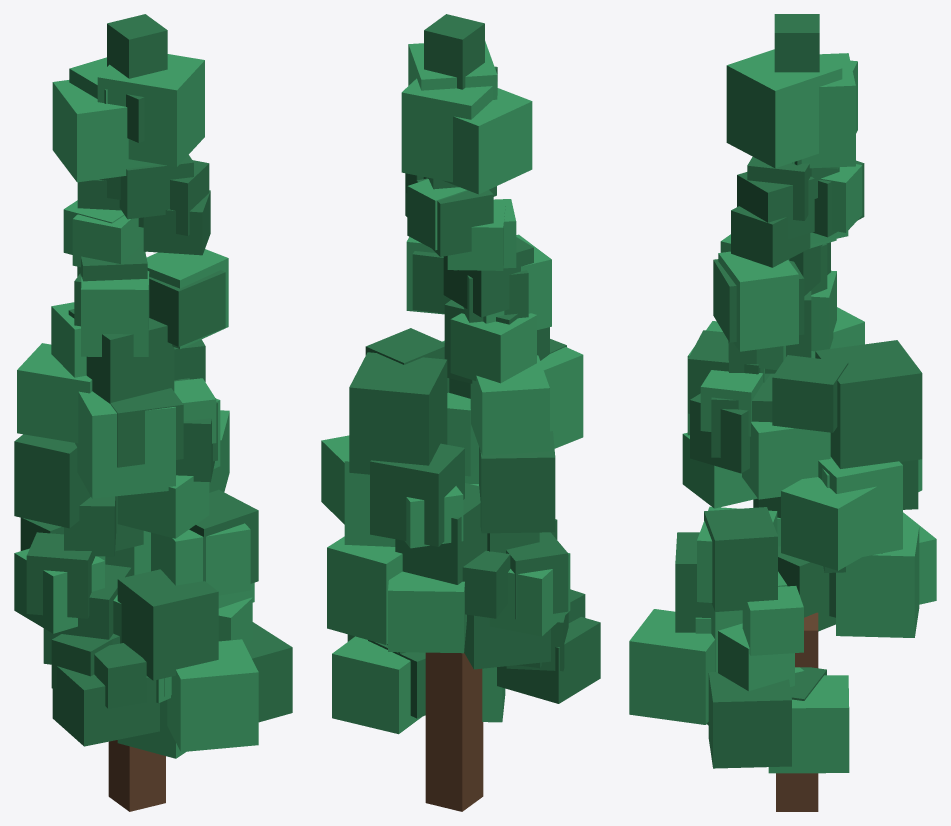
The model's file is treePine.glb.
3 renders of one model, left to right at view 1: azimuth 30°, elevation 25°; view 2: azimuth 150°, elevation 25°; view 3: azimuth 270°, elevation 25°, orthographic.
Visible parts, largest first — view 1: treePine_leafDark, treePine_leafMid, treePine_bark; view 2: treePine_leafMid, treePine_leafDark, treePine_bark; view 3: treePine_leafMid, treePine_leafDark, treePine_bark.
Part boxes in pixels (bbox=[...]): treePine_leafDark: bbox=[14, 14, 292, 746]; treePine_leafMid: bbox=[14, 54, 258, 758]; treePine_bark: bbox=[108, 740, 165, 811]; treePine_leafMid: bbox=[321, 41, 583, 734]; treePine_leafDark: bbox=[347, 14, 600, 718]; treePine_bark: bbox=[425, 652, 483, 811]; treePine_leafMid: bbox=[629, 49, 936, 773]; treePine_leafDark: bbox=[675, 14, 922, 768]; treePine_bark: bbox=[776, 612, 818, 811].
Size of the model in its own units: 5.26 by 17.2 by 6.15.
